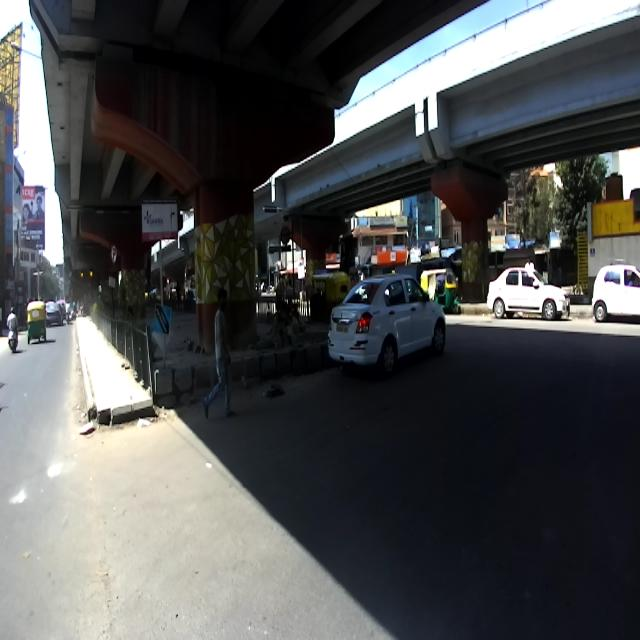auto ahead at: (24, 300, 52, 340)
car ahead at: (326, 269, 449, 377), (482, 260, 572, 330)
person ahead at: (202, 278, 235, 427)
